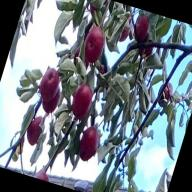Apples: (80, 25, 109, 64), (75, 124, 103, 162), (68, 82, 96, 119), (38, 67, 63, 101), (23, 113, 47, 148), (130, 13, 152, 43), (71, 44, 94, 71), (154, 80, 176, 108), (40, 86, 62, 114), (117, 16, 133, 43), (88, 0, 108, 18), (34, 168, 52, 182)
